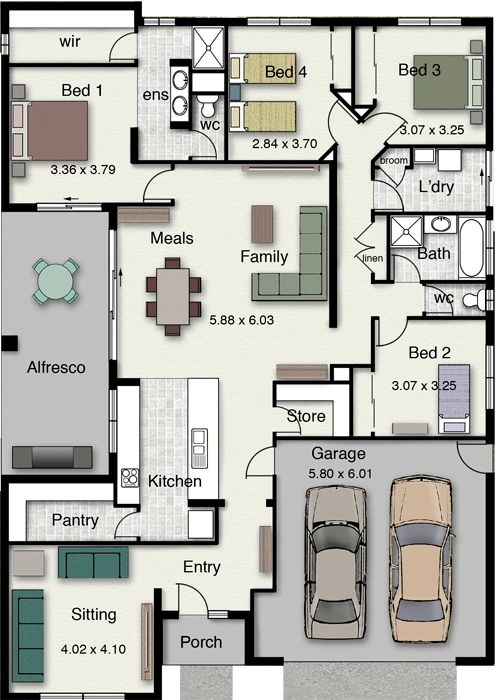wall: (485, 474, 495, 668), (329, 161, 337, 333), (1, 1, 139, 10), (1, 475, 115, 485), (1, 540, 218, 545), (485, 16, 493, 151), (131, 160, 338, 165), (1, 60, 8, 207), (153, 585, 161, 700), (1, 549, 7, 696), (1, 471, 7, 618), (312, 16, 397, 25), (272, 436, 492, 439), (371, 211, 492, 216), (272, 476, 277, 593), (224, 17, 228, 163), (175, 18, 247, 26), (1, 62, 138, 66), (244, 610, 253, 667), (387, 144, 487, 149), (351, 17, 356, 109), (247, 656, 284, 667), (188, 498, 226, 507), (485, 311, 495, 344), (110, 377, 142, 386), (386, 212, 390, 284), (420, 280, 491, 284), (105, 202, 174, 206), (486, 411, 494, 444), (131, 128, 138, 163), (272, 381, 351, 384), (1, 3, 9, 32), (108, 361, 116, 390), (349, 366, 352, 439), (109, 454, 117, 481), (215, 500, 220, 543), (109, 204, 116, 231), (406, 317, 495, 319), (370, 315, 373, 372), (189, 90, 228, 94), (190, 69, 227, 73), (135, 1, 141, 24), (170, 60, 193, 66), (189, 61, 191, 128), (114, 503, 140, 508), (271, 382, 276, 406), (372, 279, 388, 285), (171, 122, 190, 127), (409, 144, 413, 167), (330, 88, 351, 92), (370, 160, 374, 181), (249, 589, 276, 592), (330, 365, 334, 382), (272, 432, 276, 446), (370, 272, 375, 283)
